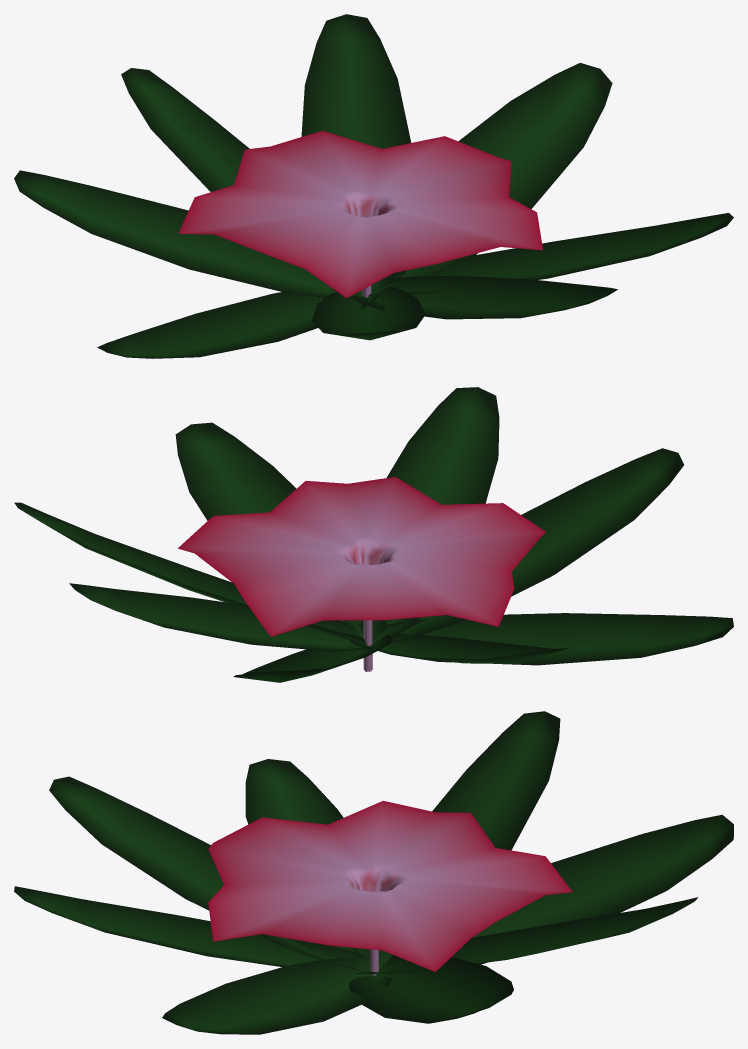
The model's file is Flower_1_v1.fbx.
The picture shows the model from 3 angles, top to bottom: view 1: azimuth 30°, elevation 25°; view 2: azimuth 150°, elevation 25°; view 3: azimuth 270°, elevation 25°; orthographic projection. The views are drawn at different scales.
Parts seen in each view (by area): view 1: FlowerLeaf_09; view 2: FlowerLeaf_09; view 3: FlowerLeaf_09.
Boxes of the visible parts, bbox=[...] form: FlowerLeaf_09: bbox=[14, 14, 733, 358]; FlowerLeaf_09: bbox=[14, 387, 733, 682]; FlowerLeaf_09: bbox=[14, 711, 733, 1034].
Bounding box in the file's own units: 105 × 26.57 × 105.
